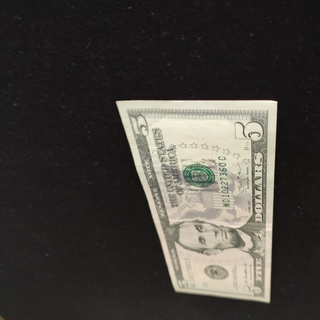5USDFront: (114, 98, 278, 305)
